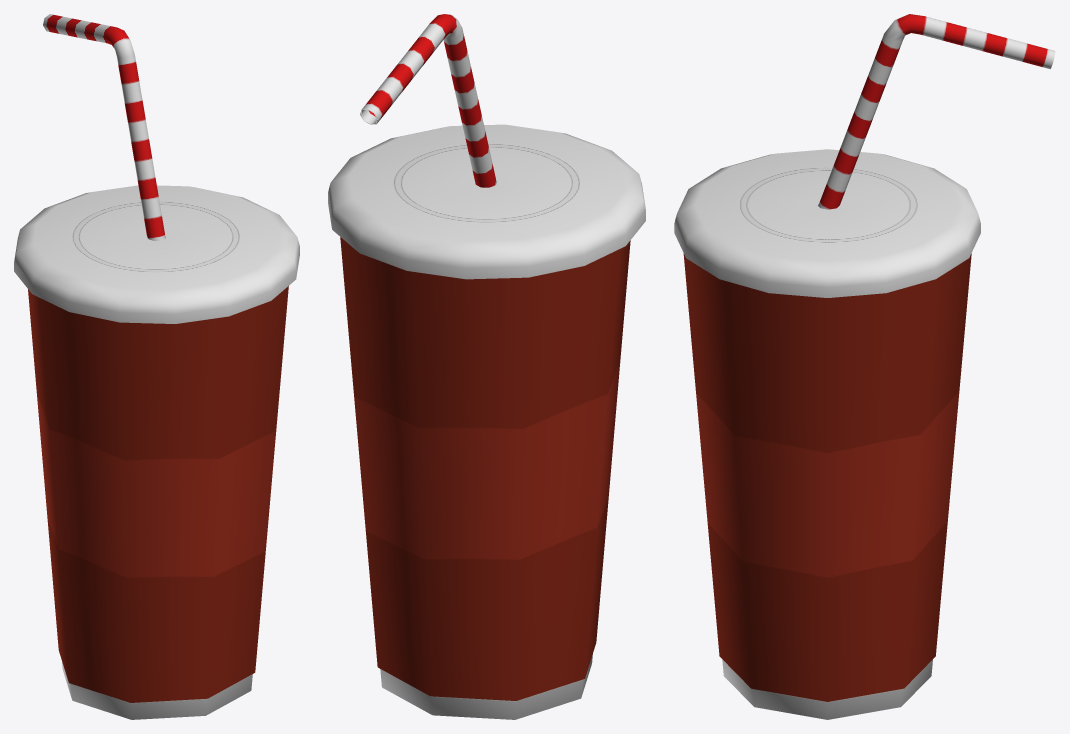
Rendered from Cup_Drink_Full.fbx.
The picture shows the model from 3 angles, left to right: view 1: azimuth 30°, elevation 25°; view 2: azimuth 150°, elevation 25°; view 3: azimuth 270°, elevation 25°; orthographic projection. The views are drawn at different scales.
Parts seen in each view (by area): view 1: Drink_Cup_F; view 2: Drink_Cup_F; view 3: Drink_Cup_F.
Boxes of the visible parts, x1,y1,x2,y2 form: Drink_Cup_F: [14, 14, 299, 719]; Drink_Cup_F: [328, 14, 645, 719]; Drink_Cup_F: [674, 14, 1055, 719].
Bounding box in the file's own units: 16.93 × 40.36 × 21.06.
